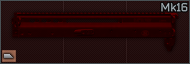FN SCAR-L 5.56x45 upper receiver FDE: (0, 0, 190, 64)
